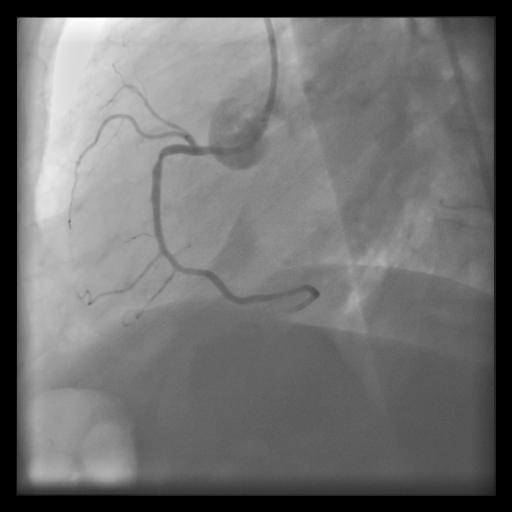Stenosis: (150, 147, 169, 164)
